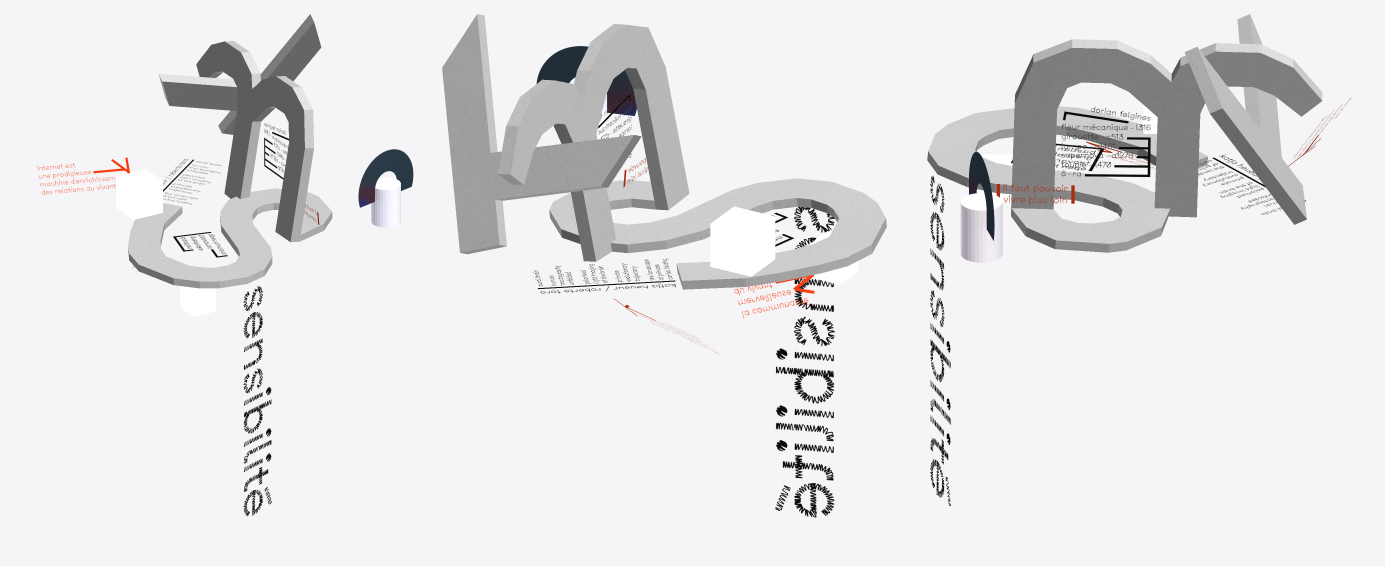
The model's file is Sensibilite.gltf.
3 views of the same model, side by side, from view 1: azimuth 30°, elevation 25°; view 2: azimuth 150°, elevation 25°; view 3: azimuth 270°, elevation 25° (orthographic). The views are drawn at different scales.
Parts seen in each view (by area): view 1: Sensibilite, Titre_sensibilite, 3D_Katja, 3D_Dorian_Bas, 3D_Dorian_Haut, 3D_Bastian, Cartel_Sonore_Katja_BM, Cartel_katja_heueur; view 2: Sensibilite, Titre_sensibilite, 3D_Katja, 3D_Dorian_Bas, Cartel_katja_heueur, Cartel_Sonore_Bastian_BM, 3D_Bastian; view 3: Sensibilite, 3D_Dorian_Haut, Titre_sensibilite, Cartel_dorian_felgines, 3D_Dorian_Bas, Cartel_katja_heueur.
Boxes of the visible parts, bbox=[...] form: Sensibilite: bbox=[128, 14, 332, 288]; Titre_sensibilite: bbox=[243, 286, 271, 516]; 3D_Katja: bbox=[116, 169, 162, 219]; 3D_Dorian_Bas: bbox=[358, 149, 413, 207]; 3D_Dorian_Haut: bbox=[371, 177, 400, 227]; 3D_Bastian: bbox=[180, 286, 215, 316]; Cartel_Sonore_Katja_BM: bbox=[37, 157, 129, 194]; Cartel_katja_heueur: bbox=[163, 159, 221, 204]; Sensibilite: bbox=[442, 14, 886, 289]; Titre_sensibilite: bbox=[775, 206, 834, 517]; 3D_Katja: bbox=[710, 206, 775, 276]; 3D_Dorian_Bas: bbox=[536, 46, 636, 115]; Cartel_katja_heueur: bbox=[533, 258, 675, 293]; Cartel_Sonore_Bastian_BM: bbox=[734, 275, 814, 318]; 3D_Bastian: bbox=[809, 231, 858, 284]; Sensibilite: bbox=[927, 14, 1322, 252]; 3D_Dorian_Haut: bbox=[960, 193, 1002, 262]; Titre_sensibilite: bbox=[930, 176, 950, 505]; Cartel_dorian_felgines: bbox=[1061, 106, 1150, 176]; 3D_Dorian_Bas: bbox=[968, 151, 994, 240]; Cartel_katja_heueur: bbox=[1198, 154, 1305, 214].
Size of the model in its own units: 12.46 by 18.19 by 12.93.
11 materials, 9 textured.
